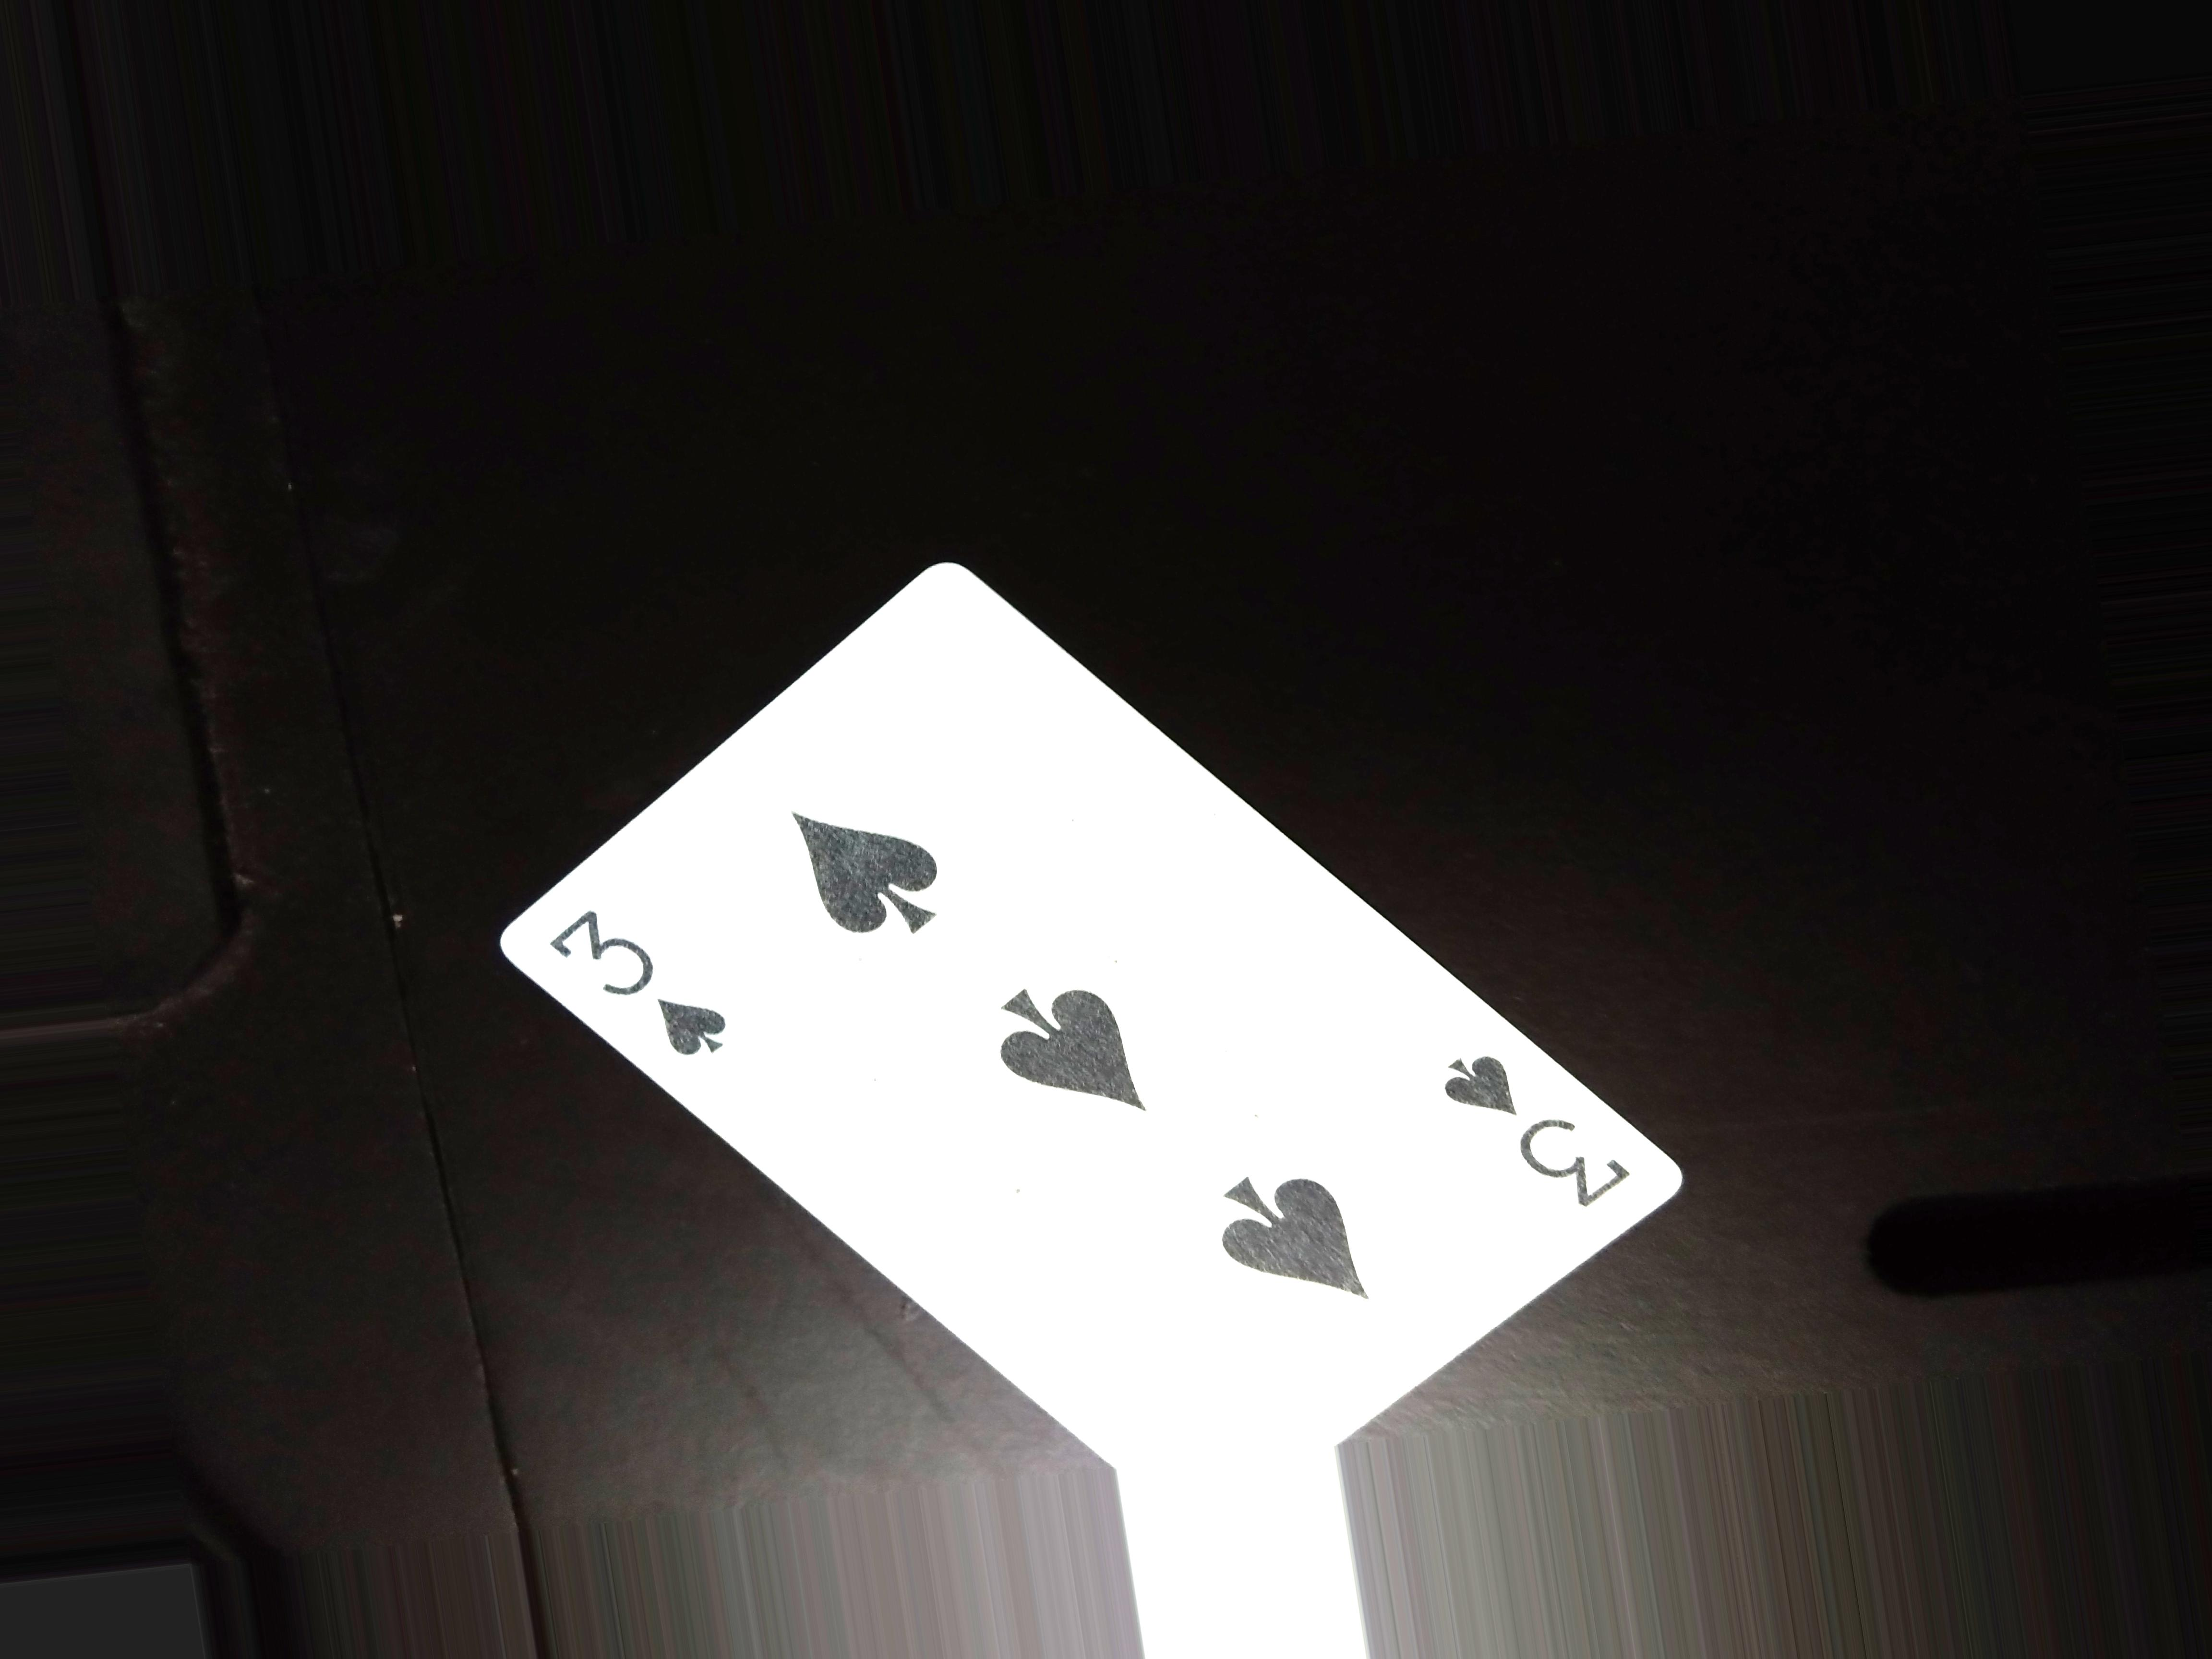3S: (547, 899, 742, 1079)
